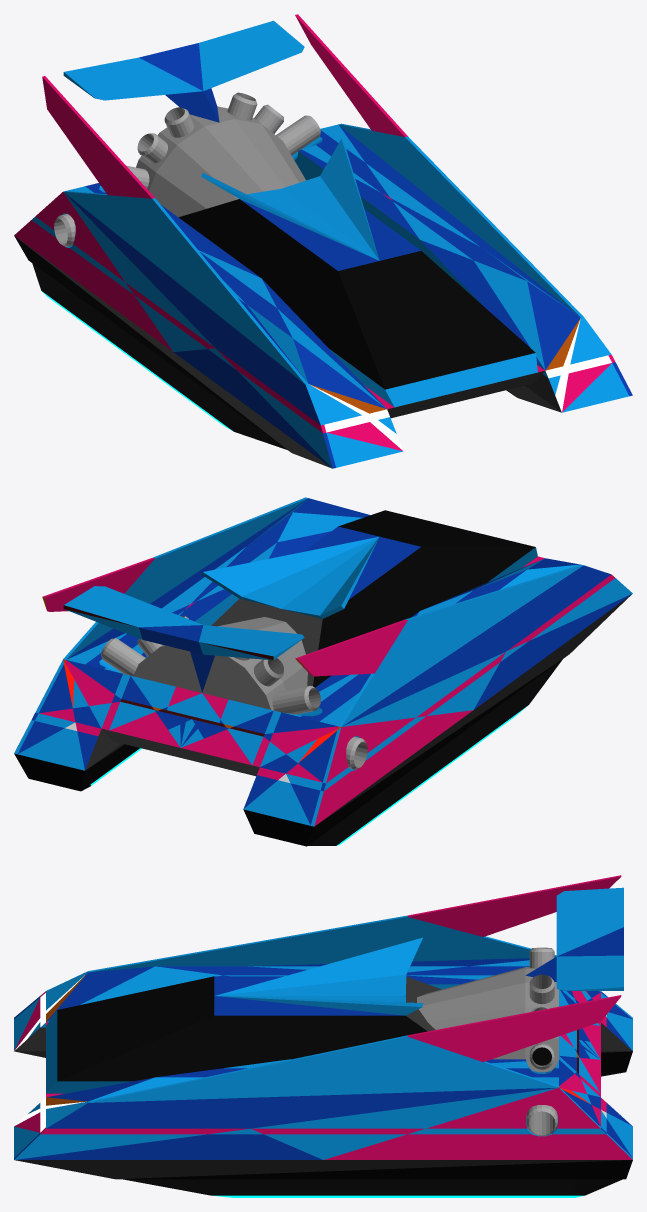
The picture shows the model from 3 angles, top to bottom: view 1: azimuth 30°, elevation 25°; view 2: azimuth 150°, elevation 25°; view 3: azimuth 270°, elevation 25°; orthographic projection. The views are drawn at different scales.
Parts seen in each view (by area): view 1: CarBody, FlyingEngine; view 2: CarBody, FlyingEngine; view 3: CarBody, FlyingEngine.
Part boxes in pixels (x1,y1,x2,y2): CarBody: (14, 14, 632, 468); FlyingEngine: (32, 263, 513, 449); CarBody: (14, 497, 632, 846); FlyingEngine: (82, 659, 562, 845); CarBody: (14, 875, 632, 1179); FlyingEngine: (123, 1072, 624, 1197).
Size of the model in its own units: 2 by 1.26 by 3.68.
